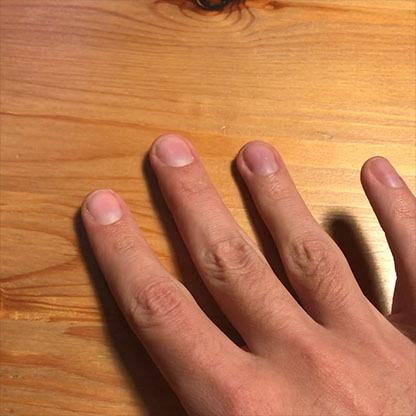fingertip: (83, 178, 126, 233), (361, 152, 409, 197), (152, 133, 198, 176), (239, 137, 283, 181)
